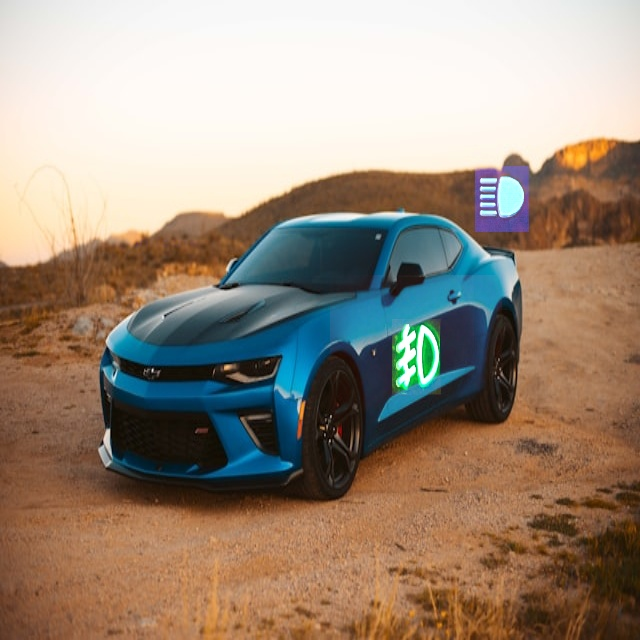symbol: (397, 99, 608, 310), (12, 63, 206, 257), (330, 275, 502, 447)
